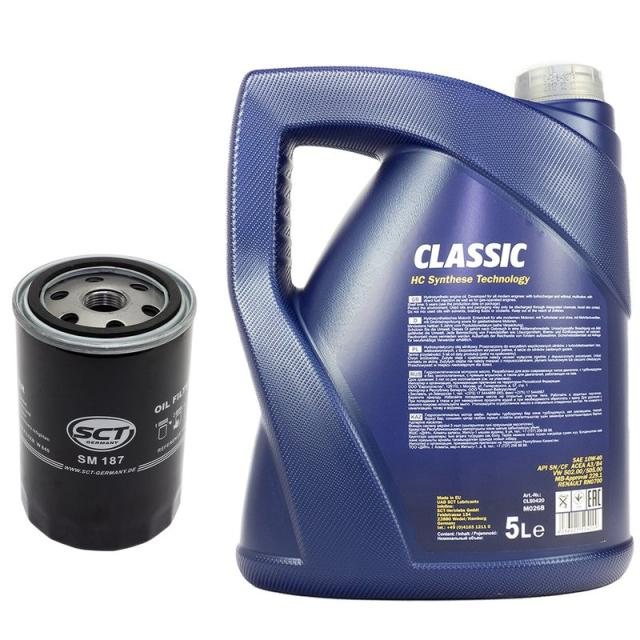motor_oil: (222, 59, 636, 602)
oil_filter: (5, 247, 200, 557)
